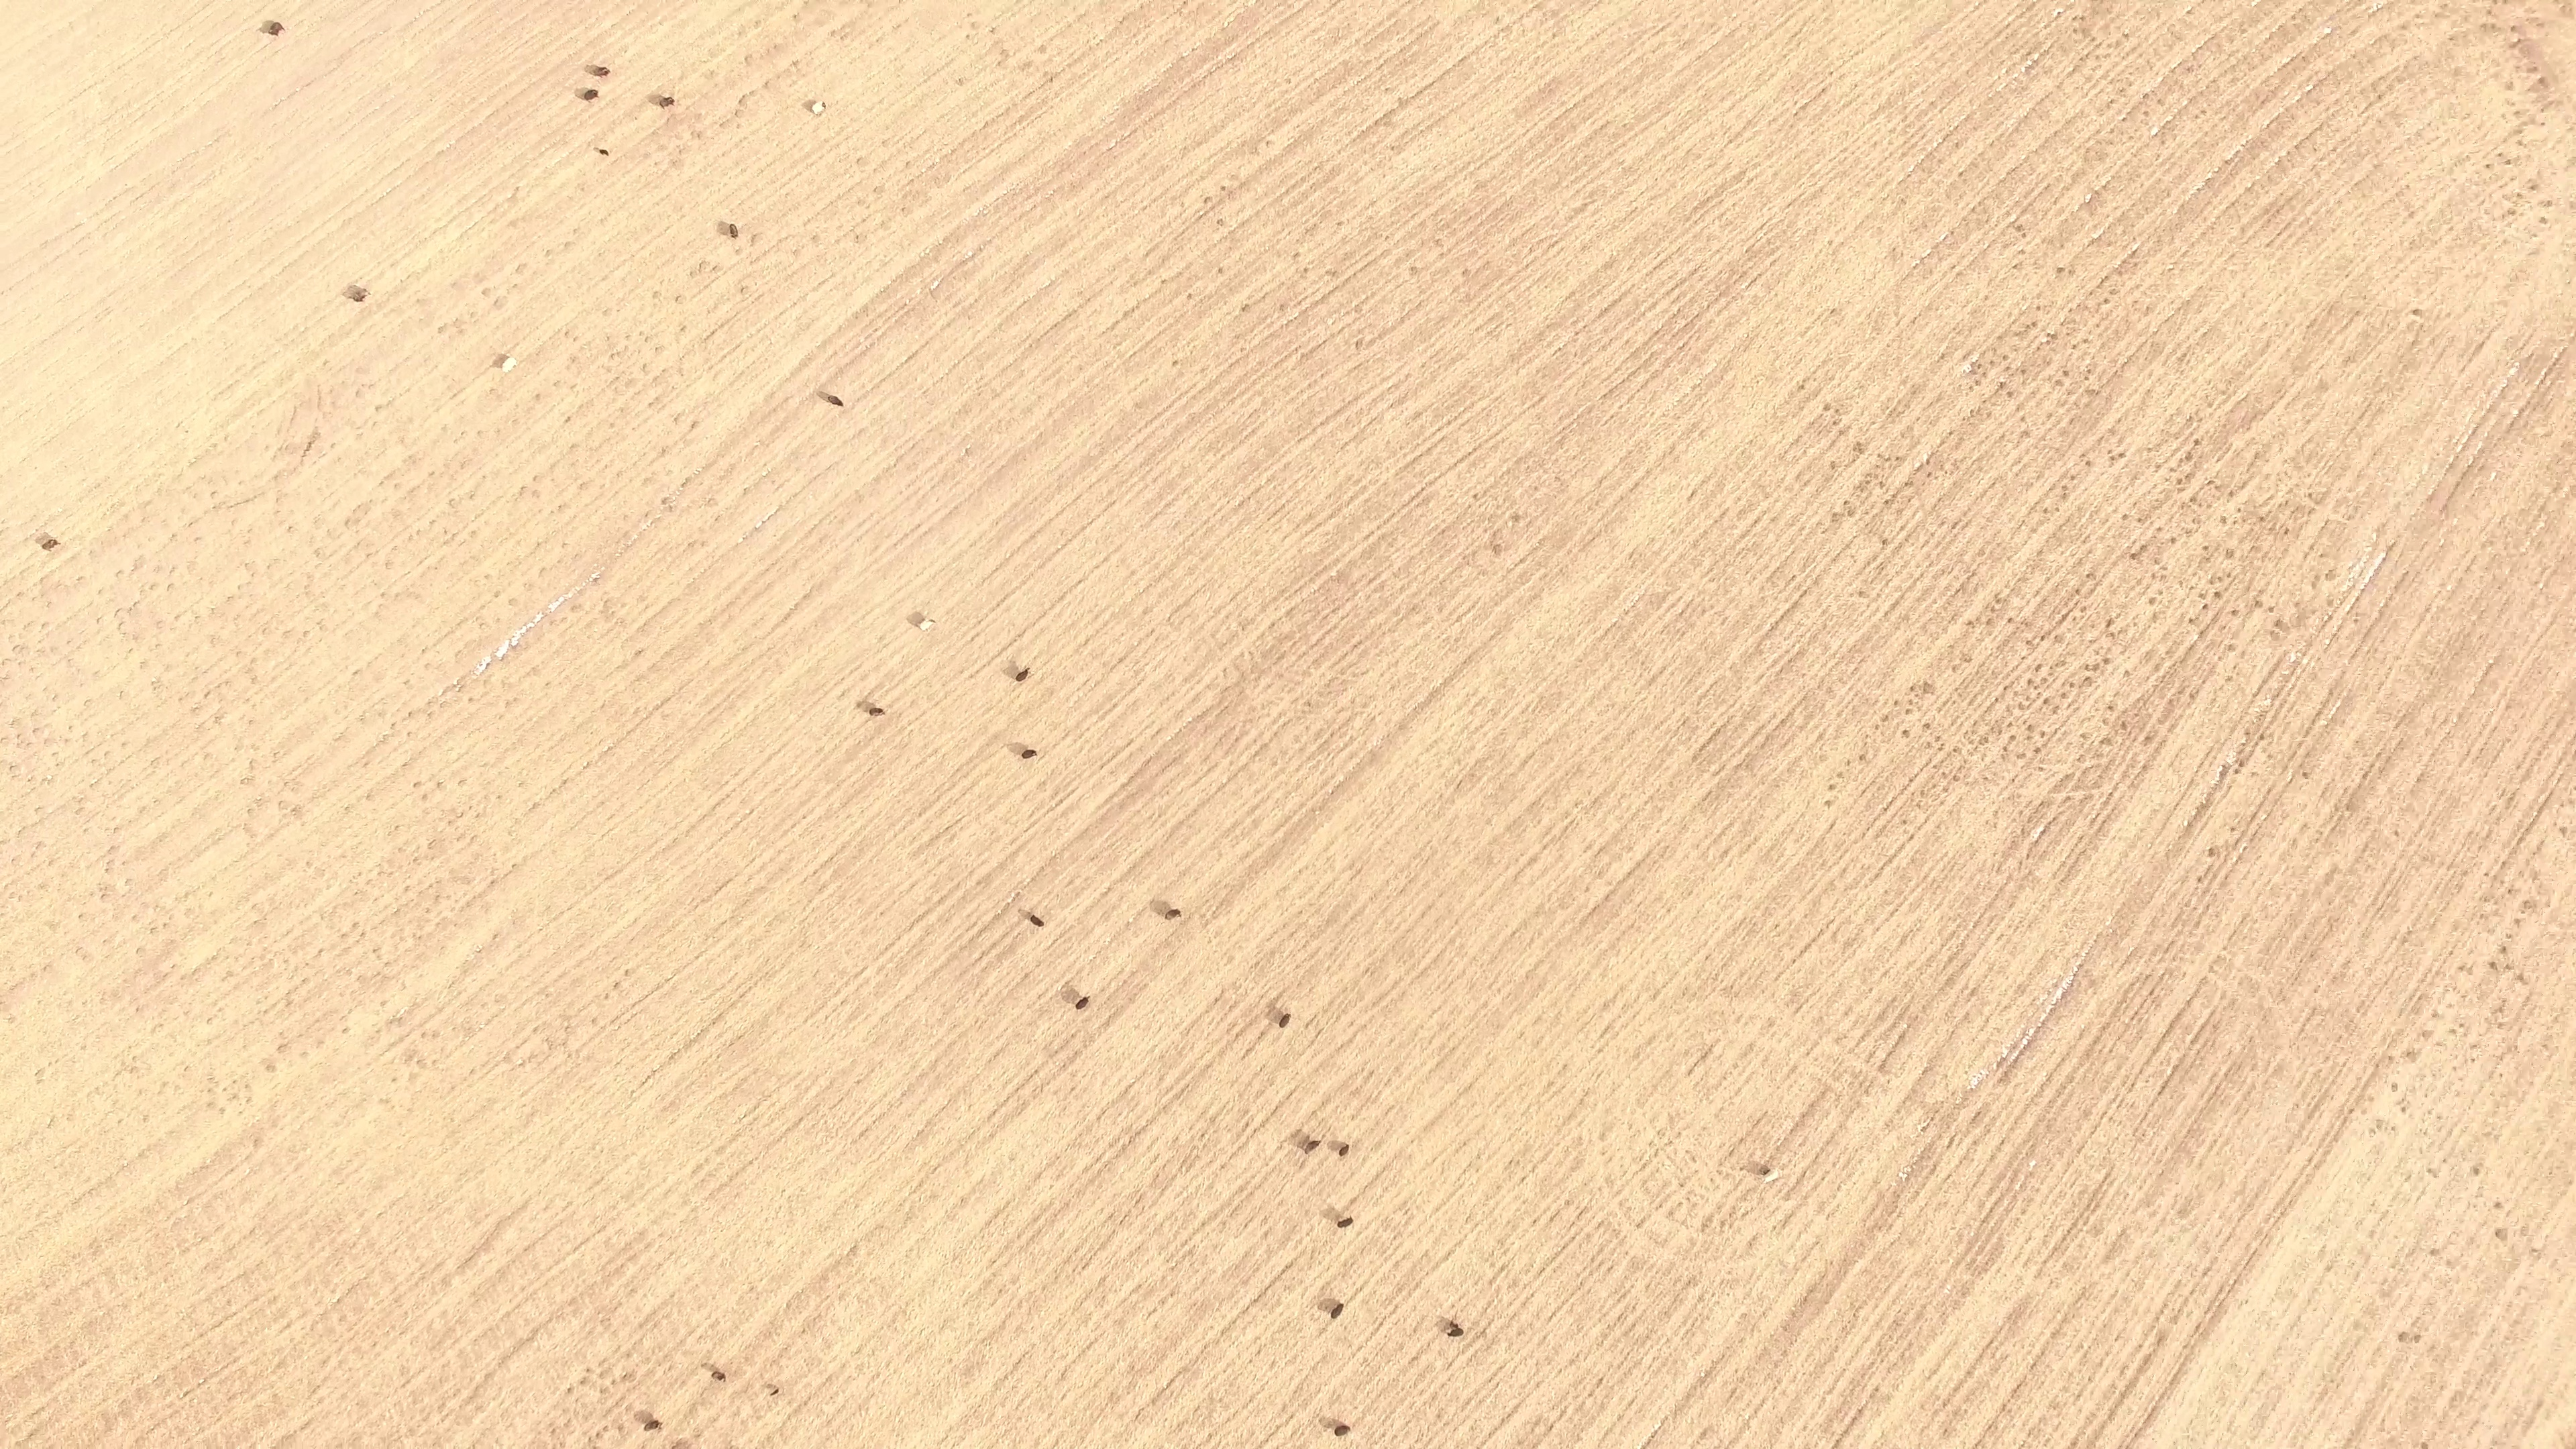sheep: (261, 18, 290, 40), (36, 534, 65, 555), (1757, 1165, 1783, 1187), (498, 353, 521, 376), (350, 284, 374, 307), (708, 1364, 731, 1387), (1302, 1132, 1322, 1159), (1012, 665, 1034, 686), (1329, 1421, 1354, 1440), (1326, 1298, 1347, 1322), (1025, 912, 1047, 930), (1161, 904, 1183, 923), (579, 85, 602, 104), (822, 390, 846, 409), (588, 62, 613, 80), (1275, 1010, 1293, 1032), (917, 616, 938, 636), (722, 219, 741, 241), (642, 1417, 665, 1436), (1334, 1213, 1358, 1231), (865, 704, 888, 721), (655, 93, 678, 111), (1334, 1140, 1353, 1159), (1074, 992, 1091, 1013), (1018, 745, 1041, 763), (808, 98, 826, 115), (596, 146, 611, 158), (769, 1387, 781, 1400)
unknown: (2193, 800, 2209, 820), (2492, 1226, 2510, 1244), (2176, 449, 2196, 466), (1920, 680, 1935, 697), (2535, 74, 2551, 91), (2395, 1329, 2412, 1344), (2167, 1371, 2181, 1388), (2141, 1352, 2154, 1367), (2428, 1246, 2443, 1259), (2053, 987, 2070, 1002), (2272, 616, 2286, 632), (2023, 319, 2039, 332), (2524, 64, 2540, 76), (2410, 1332, 2424, 1346), (2020, 1036, 2035, 1051), (2216, 768, 2229, 784), (2470, 1164, 2483, 1178), (1287, 1128, 1302, 1141), (2487, 959, 2500, 973), (2497, 943, 2510, 957), (2343, 800, 2357, 812), (2141, 733, 2155, 745), (2118, 719, 2130, 733), (2032, 661, 2045, 674), (2090, 661, 2102, 674), (2127, 550, 2140, 562), (1511, 512, 1523, 525), (2053, 264, 2068, 276), (2126, 248, 2139, 262), (2528, 181, 2541, 194), (668, 1438, 684, 1449), (1854, 439, 1865, 455), (1831, 1436, 1843, 1449), (2143, 1413, 2154, 1426), (2155, 1332, 2167, 1345), (1994, 1059, 2006, 1070), (2514, 971, 2527, 984), (2558, 824, 2570, 837), (2236, 757, 2248, 770), (1879, 714, 1892, 725), (2040, 695, 2052, 707), (2100, 655, 2112, 667), (2265, 604, 2277, 615), (1789, 599, 1801, 612), (2252, 598, 2265, 610), (2146, 594, 2158, 607), (2137, 542, 2150, 554), (2167, 535, 2179, 547), (2119, 511, 2131, 523), (2060, 368, 2072, 380), (2410, 306, 2422, 319), (2538, 215, 2549, 226), (2149, 125, 2161, 138), (2509, 40, 2520, 51), (2206, 845, 2217, 860), (2183, 820, 2194, 833), (2047, 331, 2061, 342), (2534, 1399, 2545, 1411), (764, 1381, 776, 1391), (2135, 1364, 2146, 1377), (2492, 1199, 2504, 1212), (2398, 1104, 2409, 1116), (2001, 1068, 2012, 1081), (2495, 1004, 2506, 1016), (1968, 987, 1978, 1000), (1826, 782, 1838, 793), (2299, 769, 2311, 781), (2139, 763, 2150, 774), (1856, 751, 1869, 763), (2006, 733, 2019, 743), (1900, 727, 1912, 739), (2024, 722, 2035, 734), (1922, 720, 1933, 732), (2066, 680, 2078, 691), (2104, 616, 2114, 629), (1983, 616, 1994, 628), (2059, 611, 2070, 623), (2200, 601, 2211, 612), (2211, 588, 2224, 600), (1856, 588, 1866, 600), (2257, 514, 2268, 525), (2174, 476, 2185, 488), (2446, 461, 2456, 472), (2115, 449, 2128, 461), (1821, 402, 1833, 414), (1968, 366, 1979, 378), (2000, 353, 2010, 364), (2012, 223, 2024, 235), (2321, 25, 2333, 36), (2508, 23, 2518, 35), (1841, 1428, 1851, 1438), (1847, 1419, 1857, 1429), (2117, 1391, 2128, 1401), (564, 1385, 574, 1396), (1697, 1377, 1707, 1387), (578, 1377, 588, 1387), (2192, 1322, 2203, 1333), (1800, 1295, 1810, 1305), (1806, 1286, 1817, 1296), (2324, 1264, 2334, 1274), (2070, 1219, 2080, 1230), (1704, 1214, 1714, 1224), (2388, 1124, 2398, 1134), (1972, 1109, 1983, 1120), (2010, 1056, 2021, 1067), (2385, 1053, 2396, 1063), (2404, 1049, 2414, 1059), (2016, 1047, 2027, 1059), (2419, 1030, 2429, 1040), (1258, 1028, 1268, 1038), (2512, 916, 2523, 927), (2499, 859, 2509, 869), (2515, 835, 2525, 845), (2227, 824, 2238, 835), (2536, 804, 2546, 815), (1823, 798, 1833, 808), (2417, 770, 2427, 780), (2232, 766, 2242, 776), (2033, 745, 2044, 755), (2257, 732, 2267, 743), (2038, 729, 2048, 739), (2302, 727, 2312, 737), (1902, 706, 1913, 717), (2106, 703, 2116, 713), (2187, 691, 2197, 702), (2058, 690, 2068, 701), (2025, 676, 2035, 687), (2300, 656, 2310, 666), (2107, 629, 2117, 640), (1966, 618, 1976, 628), (2186, 616, 2196, 626), (2325, 612, 2335, 623), (1992, 596, 2002, 606), (2072, 586, 2083, 597), (2309, 581, 2319, 591), (2201, 543, 2211, 553), (1490, 543, 1500, 553), (1880, 536, 1890, 547), (1829, 510, 1840, 521), (659, 496, 669, 508), (2305, 490, 2315, 500), (2226, 488, 2237, 500), (2459, 470, 2469, 480), (1828, 462, 1838, 472), (2083, 458, 2094, 469), (2108, 453, 2118, 464), (303, 442, 313, 453), (307, 437, 317, 447), (1836, 427, 1847, 438), (2507, 420, 2517, 430), (2510, 407, 2520, 417), (2004, 388, 2016, 400), (1796, 382, 1807, 392), (2084, 366, 2094, 376), (2019, 366, 2029, 376), (2546, 365, 2556, 375), (2180, 350, 2190, 360), (2033, 303, 2043, 313), (2101, 273, 2112, 284), (1215, 265, 1226, 276), (2019, 231, 2029, 241), (2483, 161, 2493, 172), (2503, 157, 2514, 168), (1799, 102, 1809, 113), (2375, 92, 2385, 103), (2488, 21, 2498, 32), (2484, 7, 2494, 17), (2418, 1440, 2431, 1449), (2229, 607, 2239, 619), (2192, 437, 2202, 449), (2068, 1440, 2079, 1449), (2133, 1429, 2143, 1439), (2150, 1404, 2160, 1414), (1595, 1376, 1605, 1387), (1701, 1371, 1711, 1381), (700, 1360, 710, 1370), (1498, 1263, 1508, 1274), (1717, 1218, 1727, 1228), (2084, 1201, 2094, 1212), (1902, 1174, 1913, 1184), (1919, 1124, 1929, 1134), (2158, 1083, 2168, 1093), (1698, 1053, 1708, 1063), (1896, 1032, 1907, 1042), (2505, 886, 2515, 897), (2392, 828, 2402, 839), (2094, 826, 2104, 836), (1900, 817, 1910, 827), (2103, 736, 2113, 746), (2037, 633, 2047, 644), (2083, 571, 2093, 581), (2385, 544, 2396, 554), (2537, 504, 2547, 514), (2190, 494, 2200, 504), (2059, 491, 2070, 501), (2206, 477, 2216, 487), (2068, 473, 2078, 483), (1923, 457, 1933, 468), (1830, 419, 1840, 429), (1996, 382, 2006, 392), (2043, 337, 2053, 347), (1239, 304, 1249, 314), (2101, 296, 2111, 306), (2406, 211, 2416, 221), (2508, 208, 2518, 218), (1218, 183, 1229, 193), (2070, 26, 2080, 36), (2345, 1107, 2355, 1117), (2457, 1020, 2467, 1030), (1981, 735, 1991, 745), (1639, 1442, 1649, 1449), (590, 1444, 600, 1449), (2490, 1, 2500, 5)
yak: (1442, 1322, 1467, 1340)
